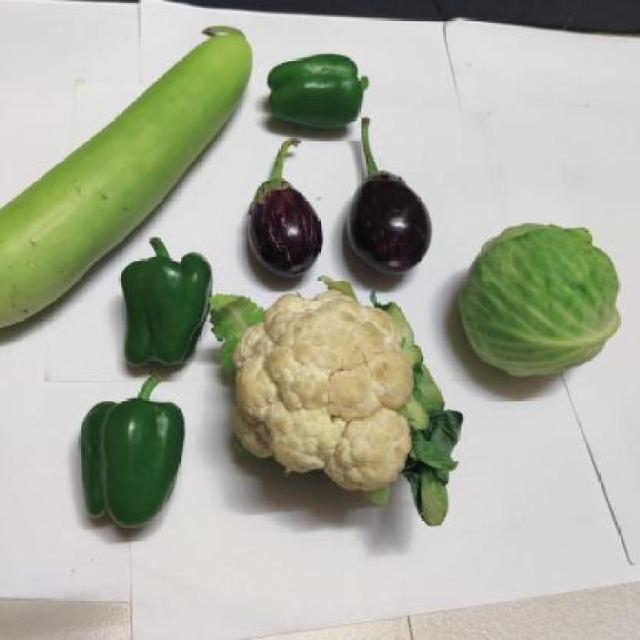Brinjal: (346, 120, 434, 277), (249, 142, 323, 280)
Cabbage: (458, 222, 626, 382)
Calabash: (22, 28, 255, 248)
Capsicum: (77, 376, 186, 530), (121, 238, 212, 369), (264, 55, 368, 128)
Cauliflower: (216, 284, 457, 524)
